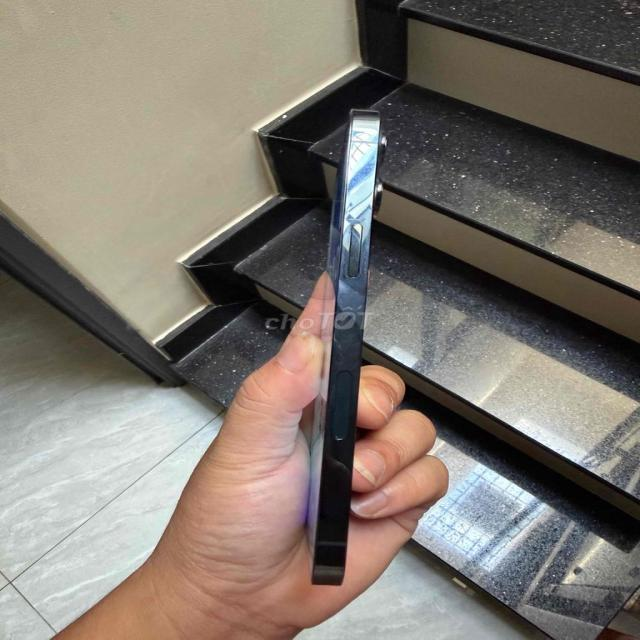gen_12_13: (288, 103, 404, 591)
